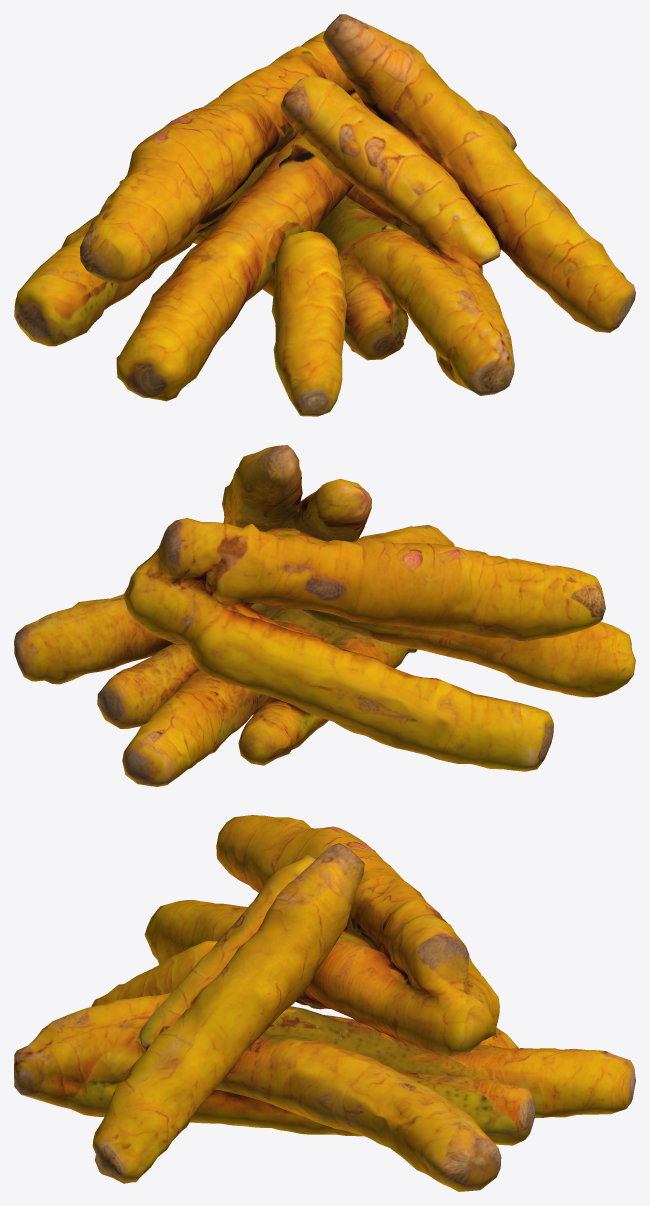
The model's file is turmeric.glb.
3 renders of one model, top to bottom at view 1: azimuth 30°, elevation 25°; view 2: azimuth 150°, elevation 25°; view 3: azimuth 270°, elevation 25°, orthographic. The views are drawn at different scales.
Bounding box in the file's own units: 1.95 × 0.9648 × 2.
1 material, 1 textured.
